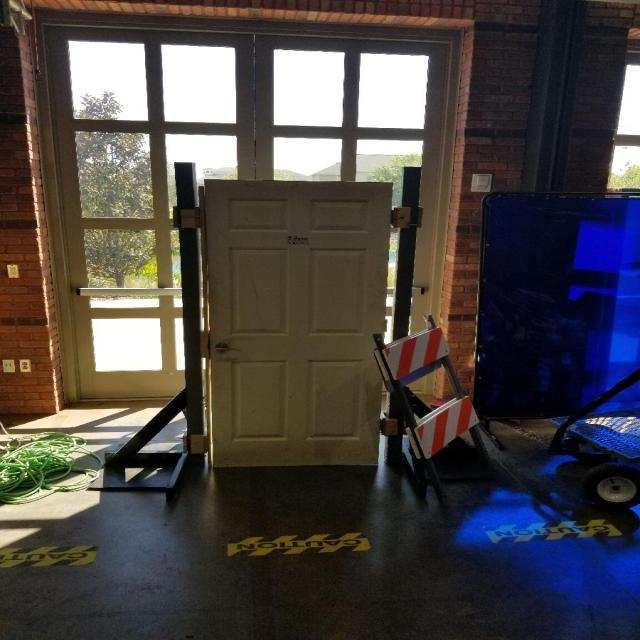door: (198, 172, 392, 474), (213, 340, 243, 357)
